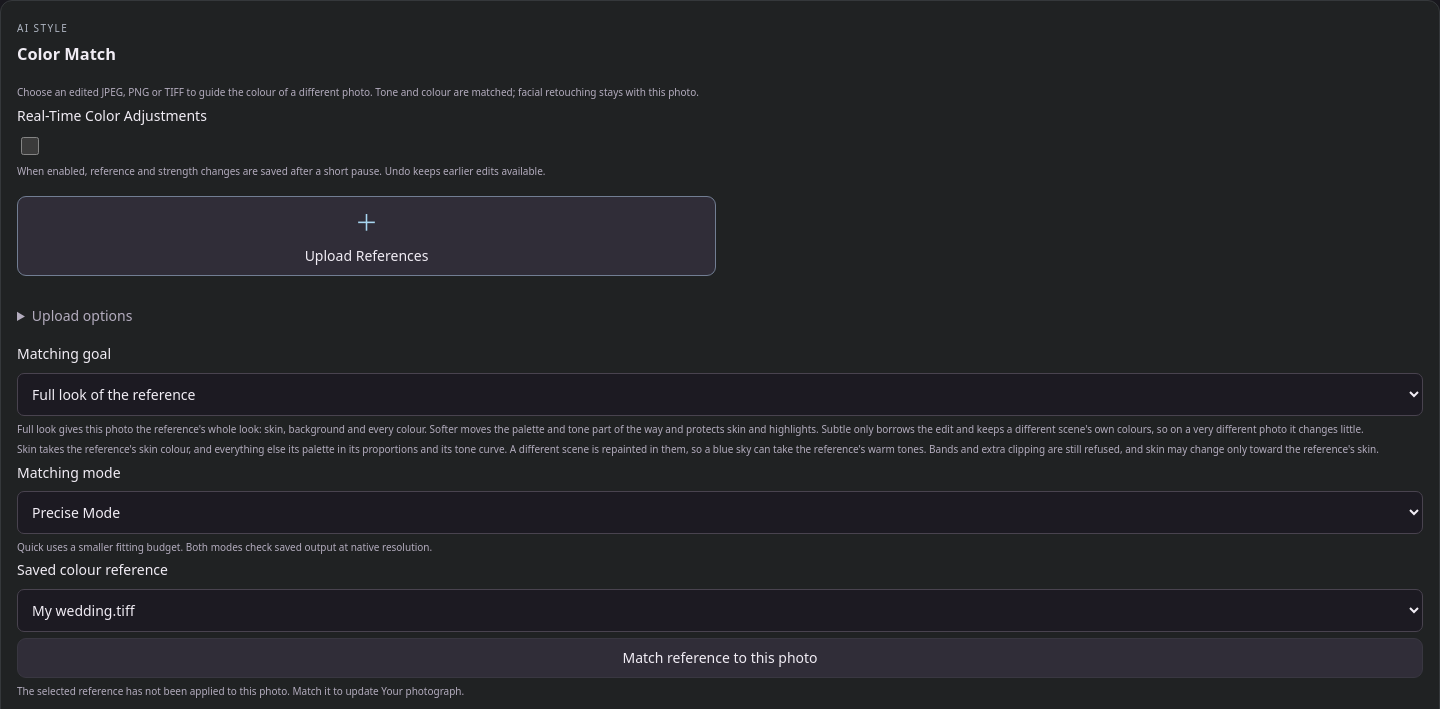
it: reports a visible match as a match, with how much it changed
Click the button "Match reference to this photo" at [720, 658], box top-left (17, 638), bottom-right (1423, 678)
(page scrolled)
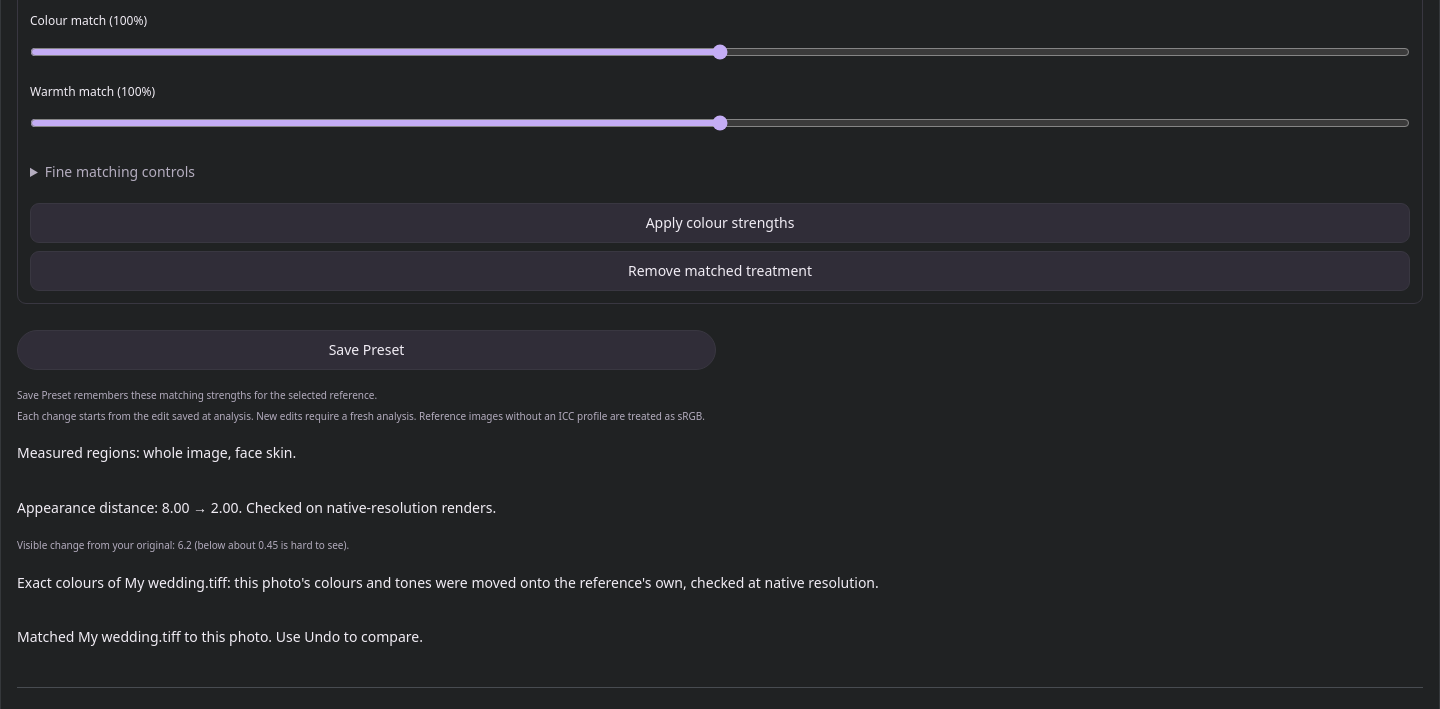
Check: the text with test id "colour-match-visible" shows "6.2", box top-left (178, 538), bottom-right (192, 552)
